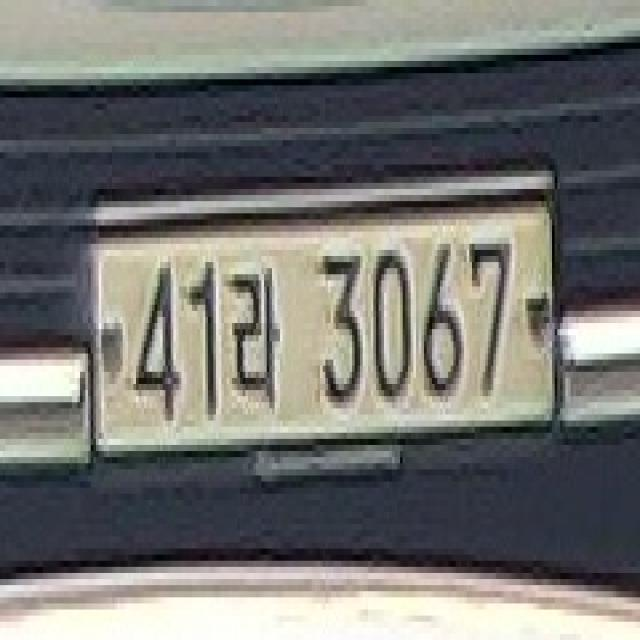0: (371, 244, 413, 408)
1: (186, 256, 218, 427)
3: (315, 238, 365, 414)
4: (134, 262, 182, 433)
6: (419, 244, 464, 408)
7: (467, 232, 509, 414)
la: (224, 256, 283, 414)
license_plate: (85, 195, 558, 463)
